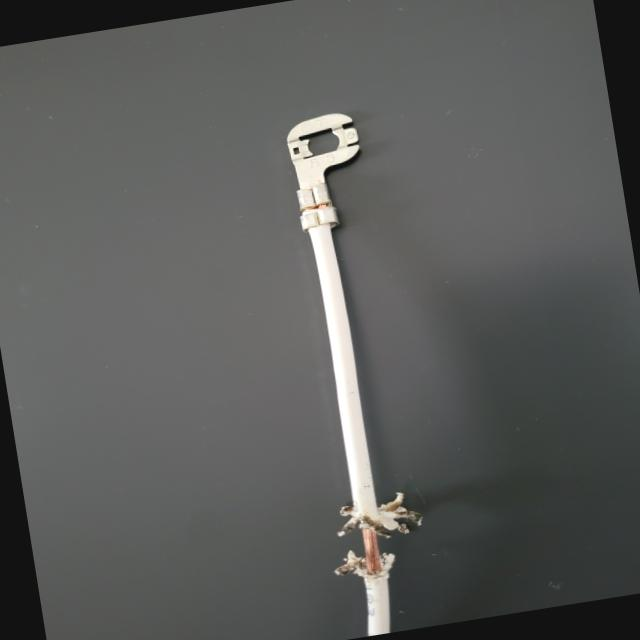defect: (174, 407, 522, 640)
